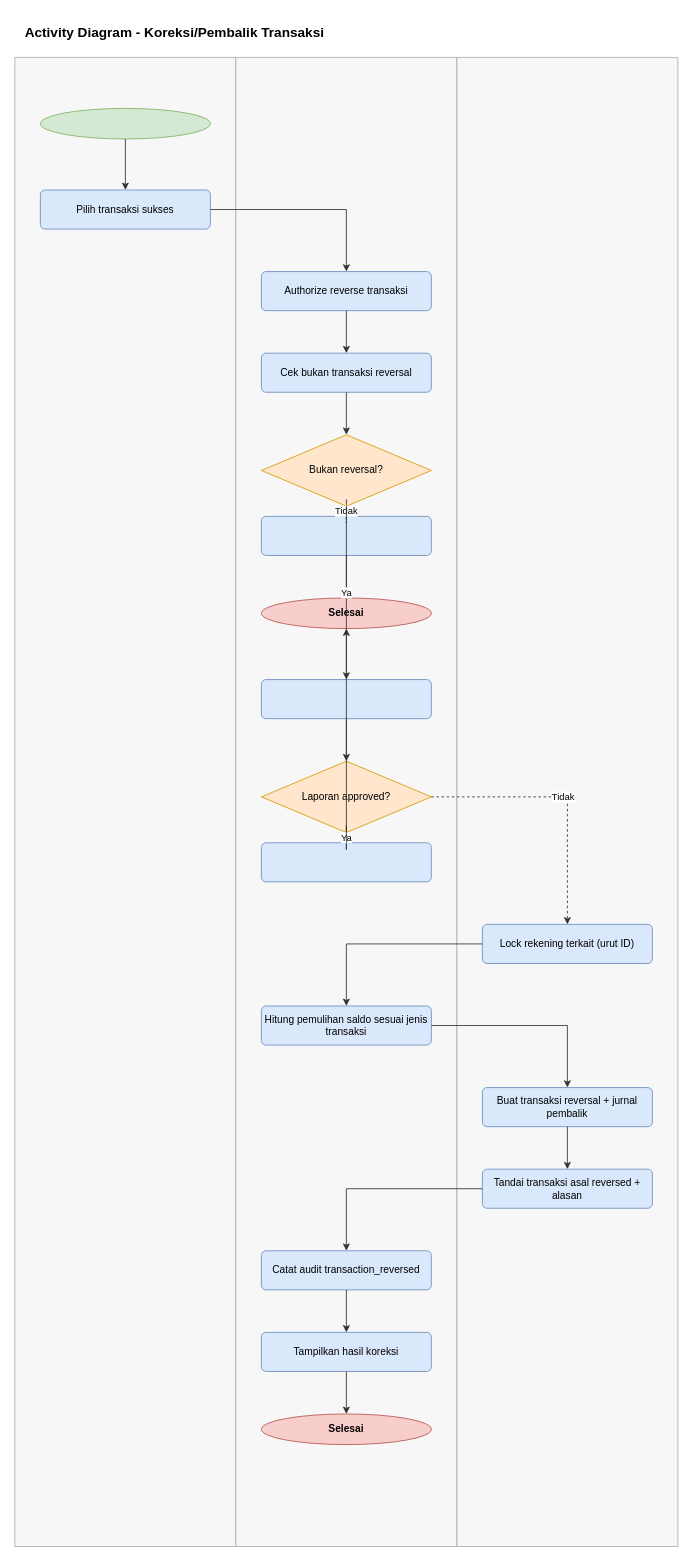
Image size: 693x1561. Some labels were removed from this diagram. The shapes that lost their labels are listed below. From the top down, each one's box as (x1, y1, x2, y2) in pixels, then its label:
(40, 108, 210, 139): Mulai
(261, 516, 431, 555): Tolak: tidak bisa koreksi ulang
(261, 679, 431, 719): Cek laporan harian tanggal tsb belum approved
(14, 57, 236, 1547): Supervisor
(235, 57, 457, 1547): Sistem
(456, 57, 678, 1547): Database
(261, 842, 431, 882): Tolak: kas sudah ke brankas
